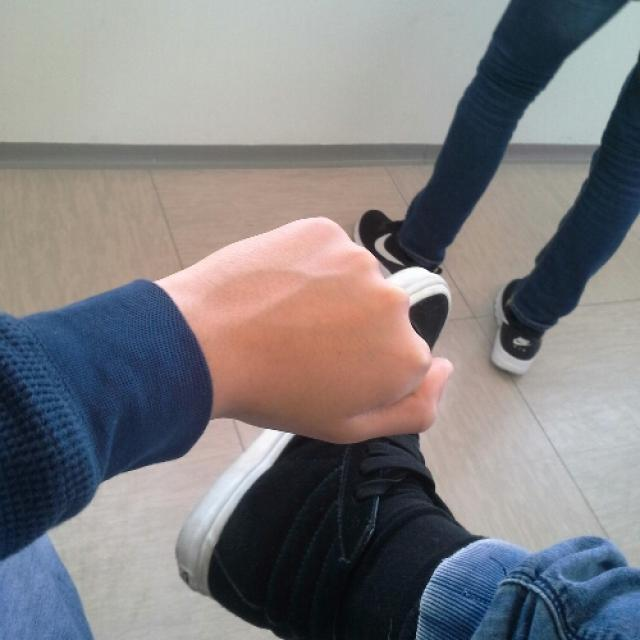rock: (206, 217, 453, 446)
